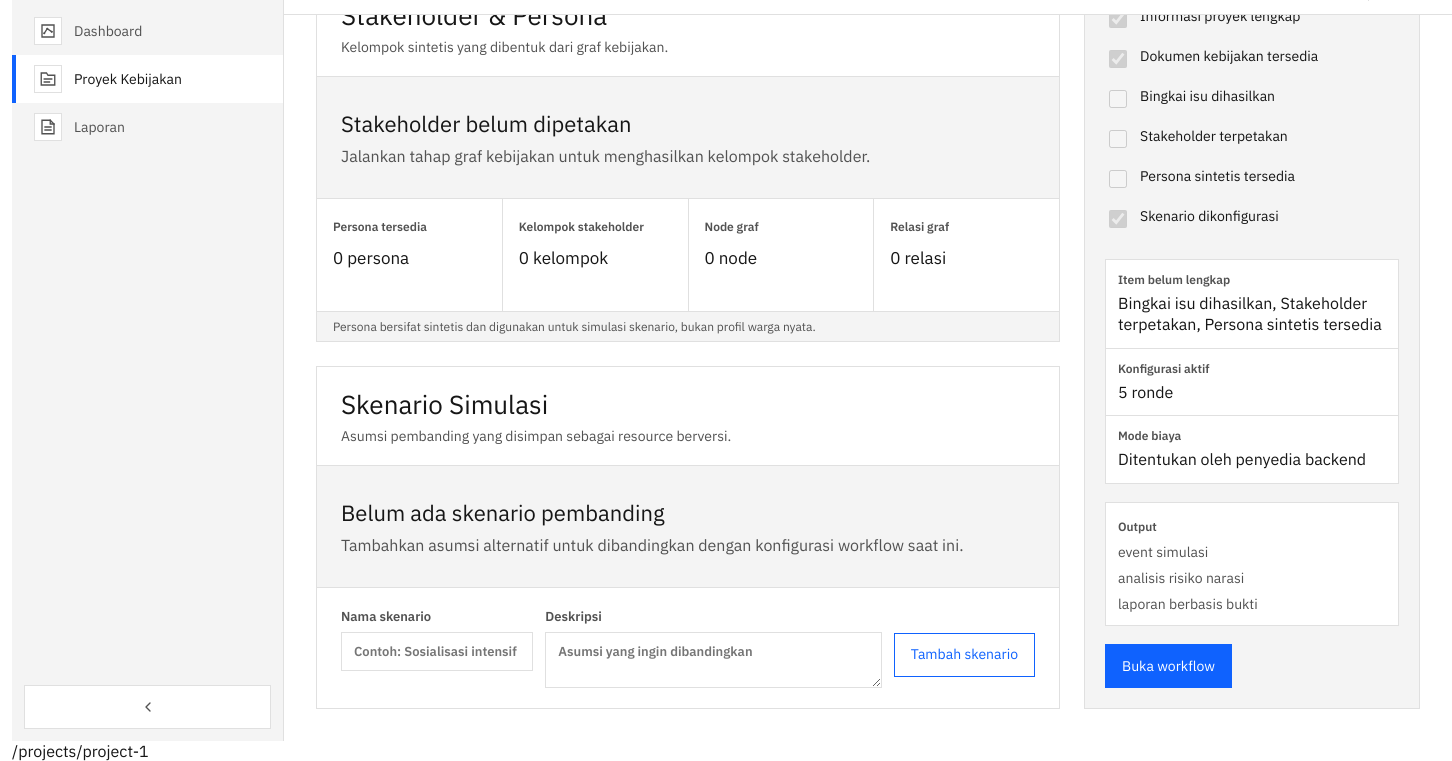
project detail resources › loads the route project and creates a server-backed scenario
(page scrolled)
Step 1. Type "Sosialisasi intensif" into the field labelled "Nama skenario" → (437, 651), box x1=341 y1=632 x2=533 y2=670
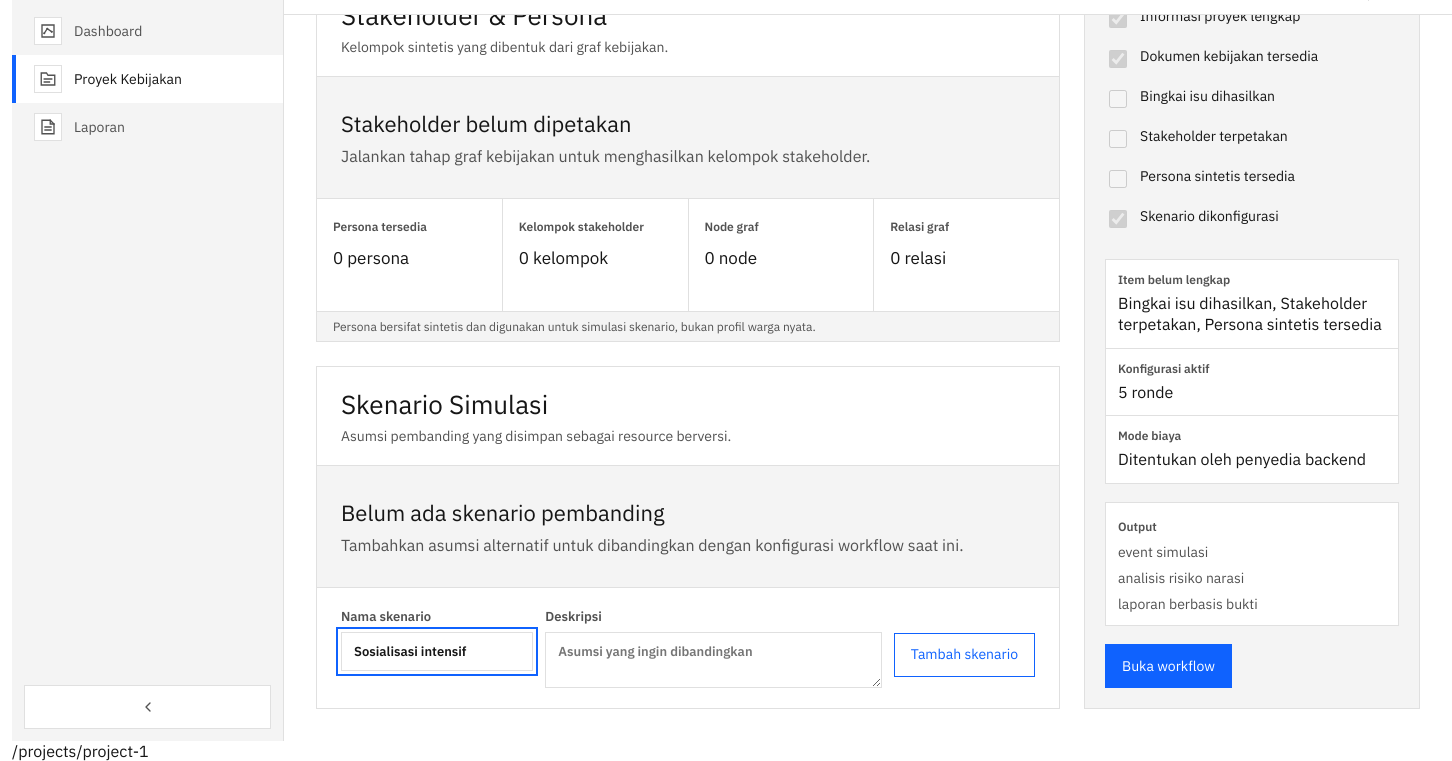
Step 2. Type "Bandingkan kanal pendampingan" into the text box labelled "Deskripsi" → (714, 660), box x1=545 y1=632 x2=882 y2=688
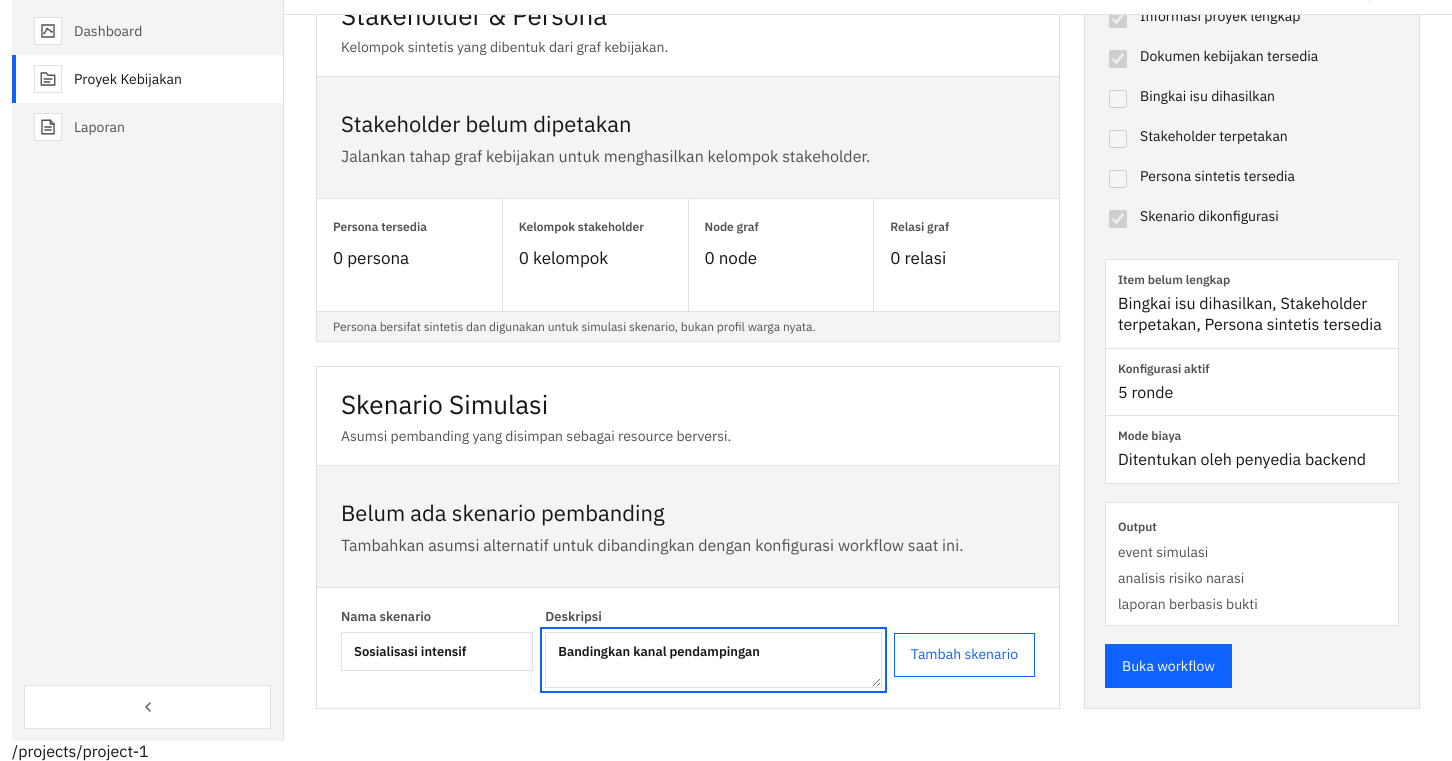
Step 3. Click the button "Tambah skenario" → (964, 654), box x1=894 y1=632 x2=1035 y2=676
(page scrolled)
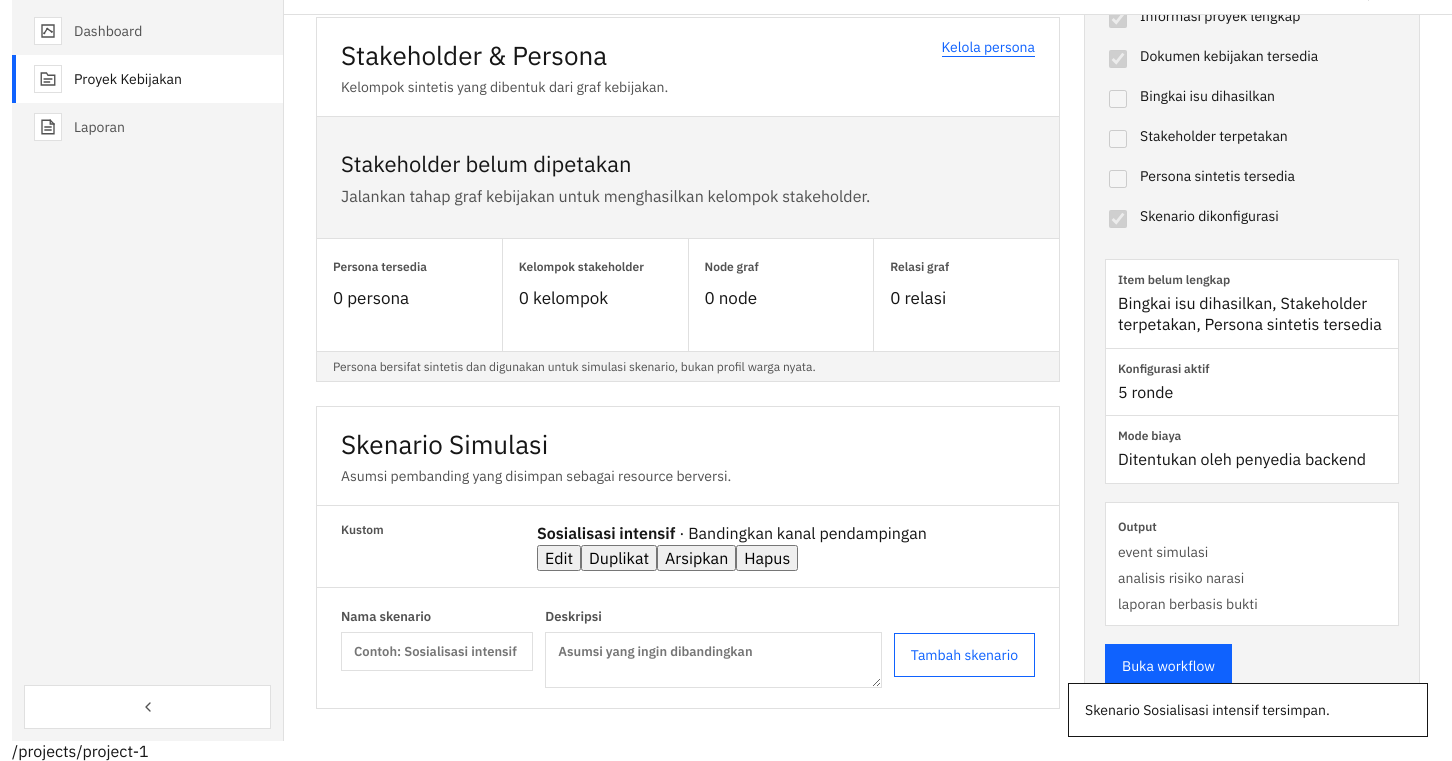
Result: the text "Sosialisasi intensif" is shown at x1=537 y1=522 x2=675 y2=542
Result: the text "Skenario Sosialisasi intensif tersimpan." is shown at x1=1068 y1=683 x2=1428 y2=737
